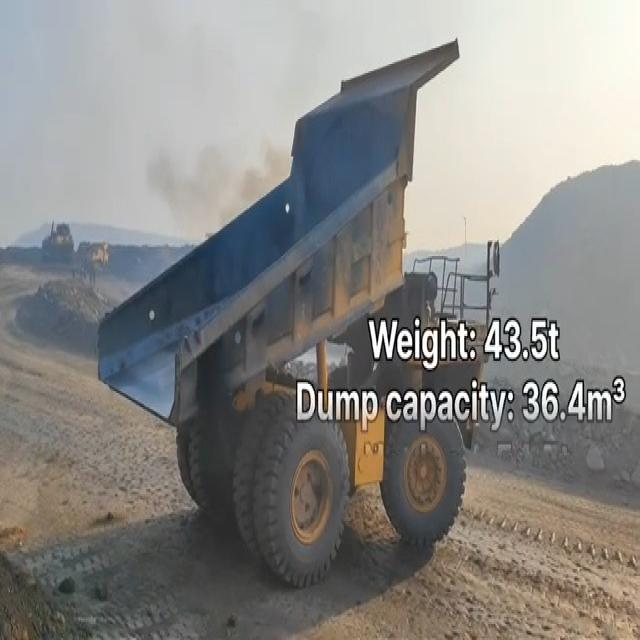dump_truck: (104, 52, 508, 581)
